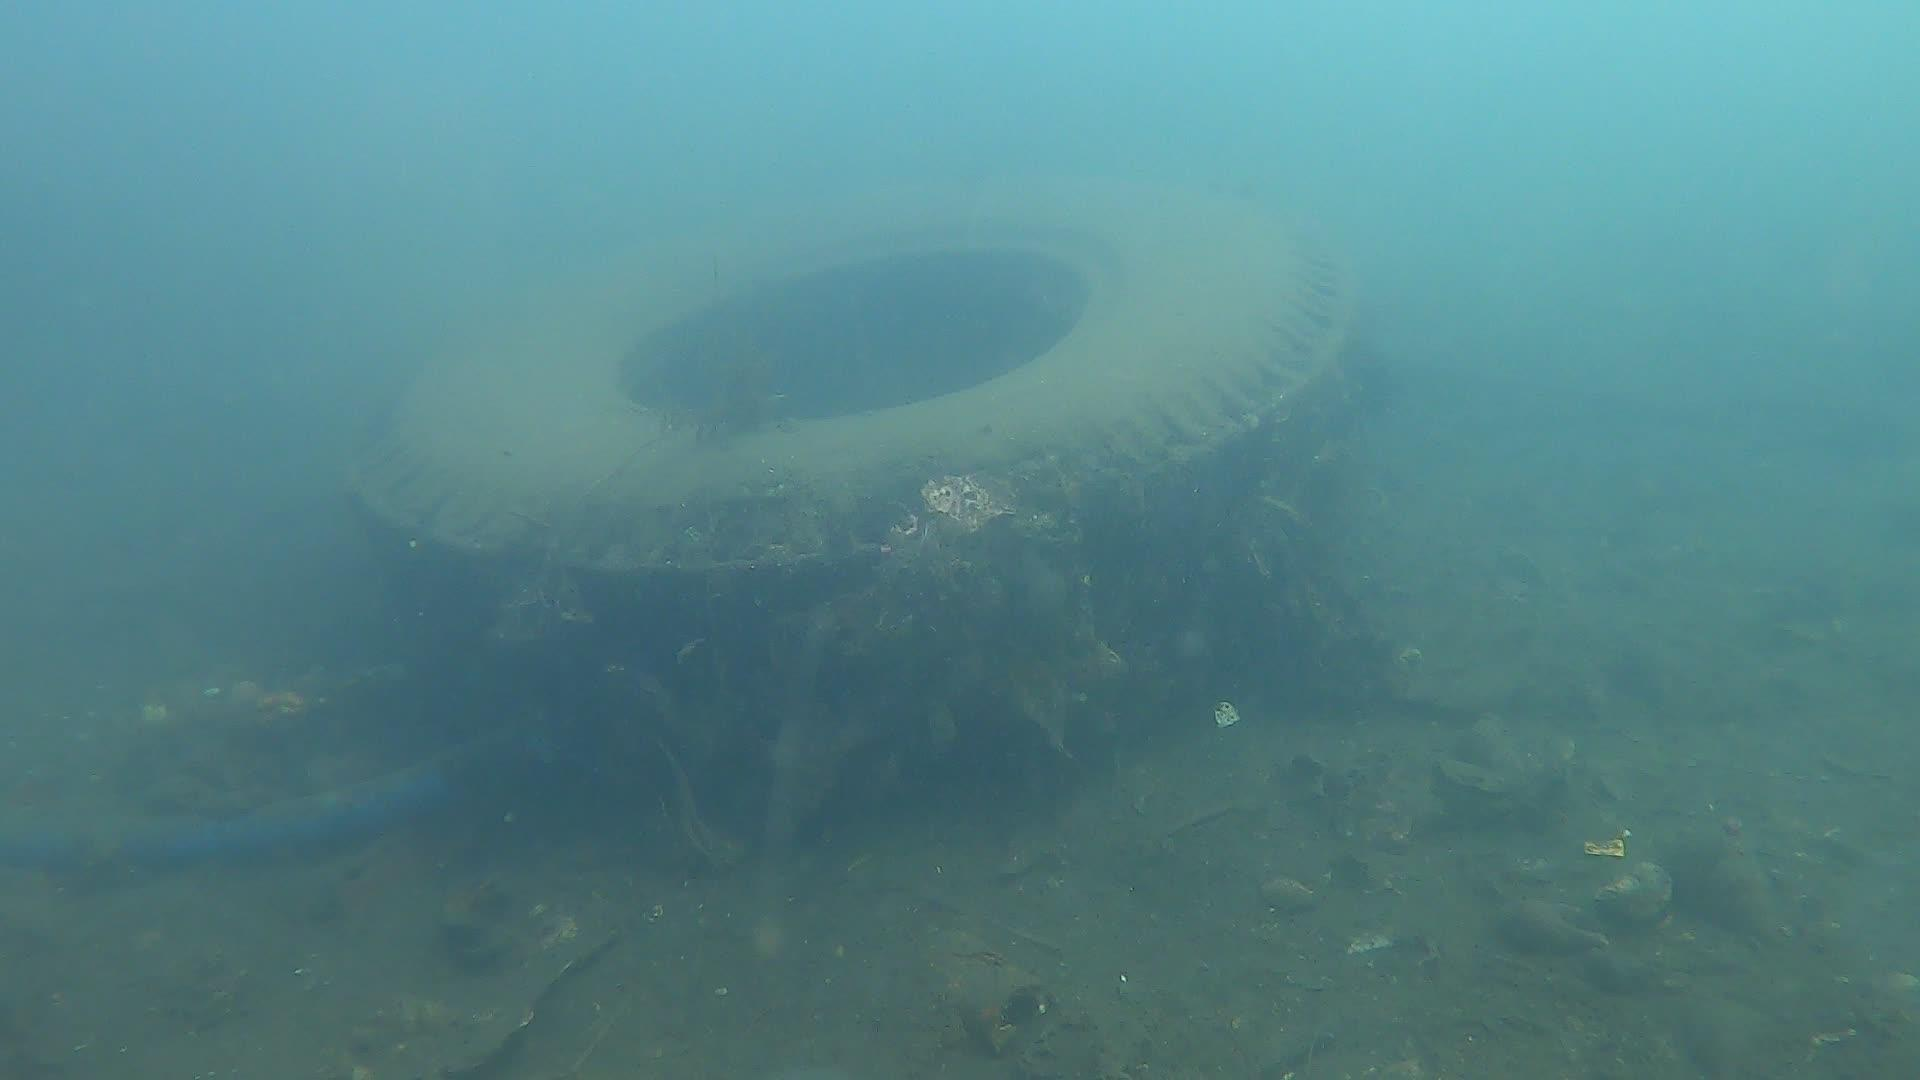tire: (320, 171, 1364, 721)
